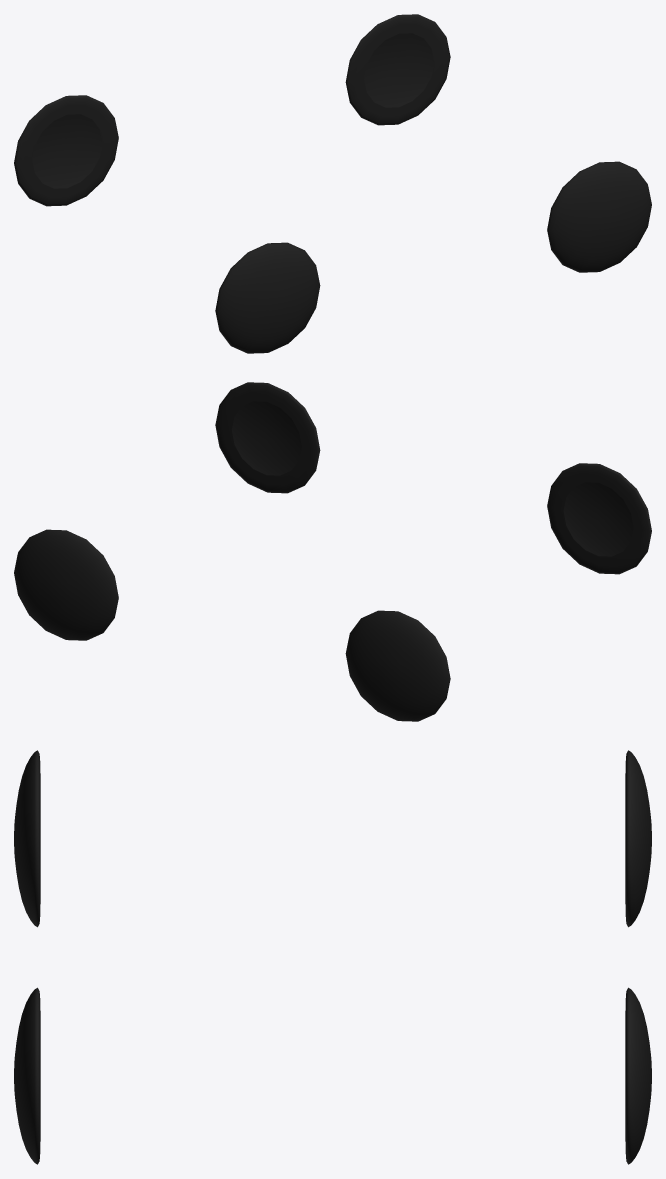
The model's file is NEWJEANS_02.glb.
3 views of the same model, one above another, from view 1: azimuth 30°, elevation 25°; view 2: azimuth 150°, elevation 25°; view 3: azimuth 270°, elevation 25° (orthographic). The views are drawn at different scales.
Size of the model in its own units: 0.1317 by 0.0316 by 0.1136.
1 material, 1 textured.
